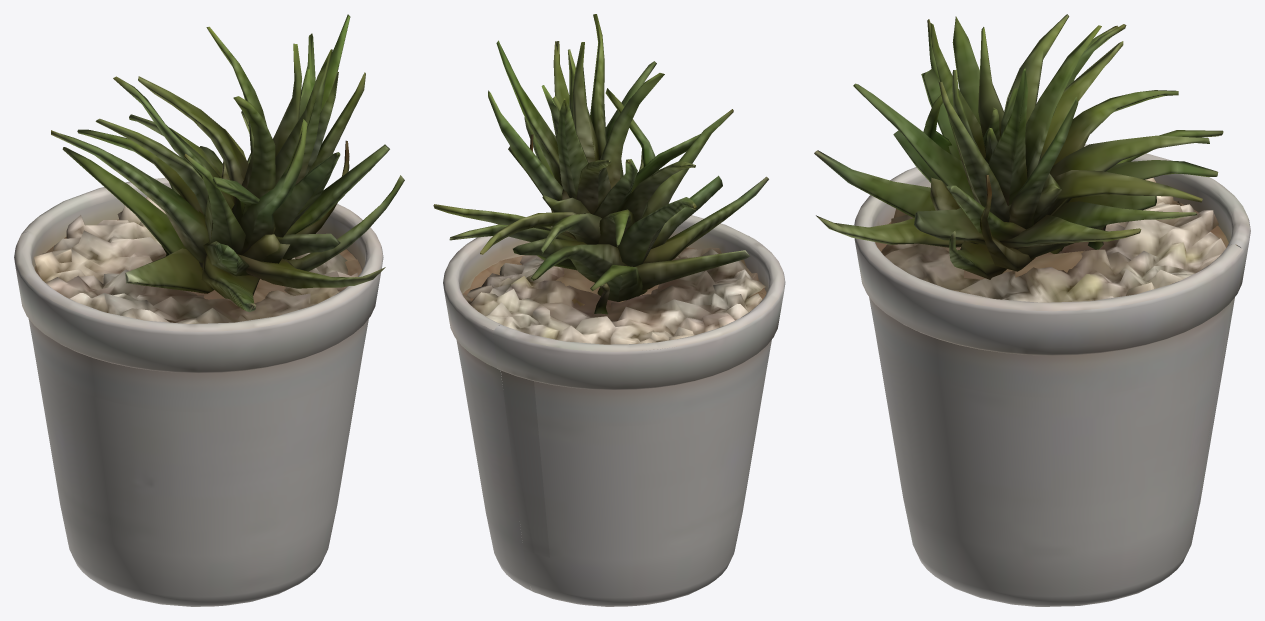
File: pianta-piccola.glb
3 views of the same model, side by side, from view 1: azimuth 30°, elevation 25°; view 2: azimuth 150°, elevation 25°; view 3: azimuth 270°, elevation 25° (orthographic). The views are drawn at different scales.
Parts seen in each view (by area): view 1: potted_plant_04_pot, potted_plant_04_plant, potted_plant_04_ground, potted_plant_04_dirt; view 2: potted_plant_04_pot, potted_plant_04_plant, potted_plant_04_ground, potted_plant_04_dirt; view 3: potted_plant_04_pot, potted_plant_04_plant, potted_plant_04_ground, potted_plant_04_dirt.
Part boxes in pixels (bbox=[...]): potted_plant_04_pot: bbox=[14, 177, 383, 606]; potted_plant_04_plant: bbox=[51, 14, 404, 312]; potted_plant_04_ground: bbox=[34, 196, 358, 323]; potted_plant_04_dirt: bbox=[34, 219, 361, 305]; potted_plant_04_pot: bbox=[443, 215, 785, 606]; potted_plant_04_plant: bbox=[433, 14, 768, 314]; potted_plant_04_ground: bbox=[462, 247, 766, 344]; potted_plant_04_dirt: bbox=[463, 247, 766, 306]; potted_plant_04_pot: bbox=[854, 144, 1250, 606]; potted_plant_04_plant: bbox=[814, 14, 1223, 279]; potted_plant_04_ground: bbox=[881, 177, 1225, 302]; potted_plant_04_dirt: bbox=[875, 200, 1236, 279].
Size of the model in its own units: 0.168 by 0.2673 by 0.1846.
Materials: 1 (1 with a texture image).
